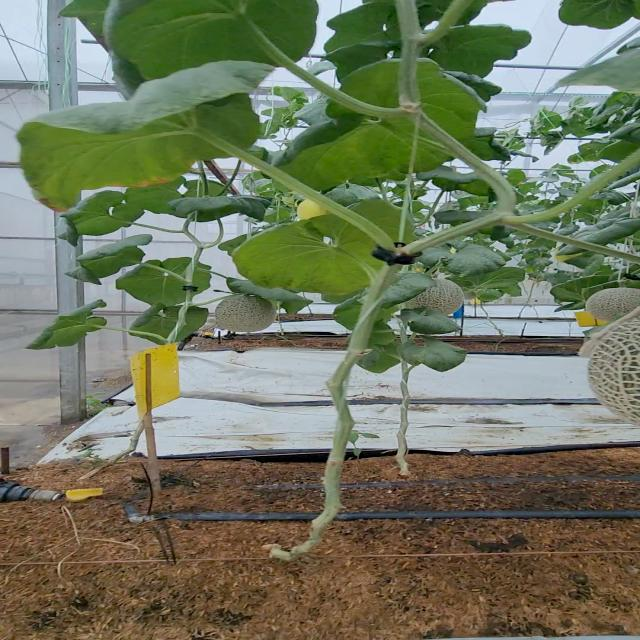Front-melon: (584, 312, 640, 428)
Rear-melon: (214, 298, 277, 330), (418, 279, 466, 315), (589, 288, 639, 318)
